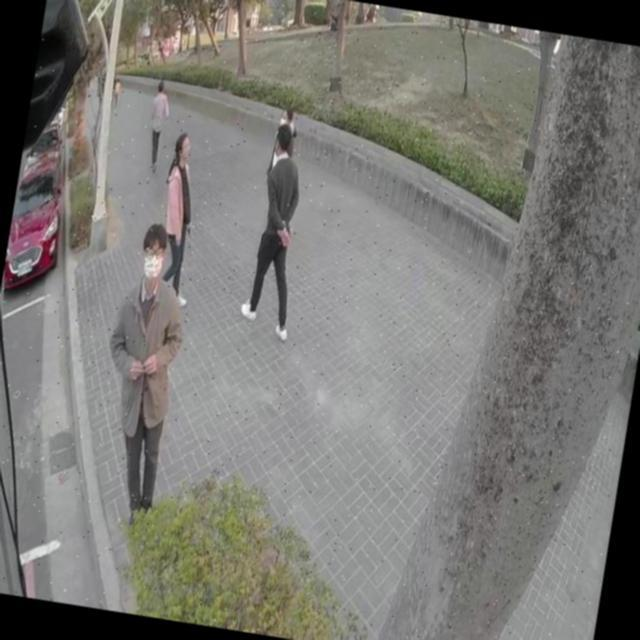person: (86, 217, 200, 508), (238, 123, 320, 339), (150, 129, 212, 304), (145, 78, 176, 168), (276, 106, 301, 132)
